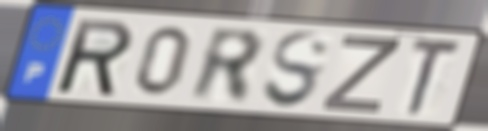0: (130, 24, 196, 100)
R: (187, 24, 267, 107), (56, 16, 136, 99)
S: (260, 29, 334, 113)
T: (404, 36, 465, 120)
Z: (317, 32, 404, 116)
